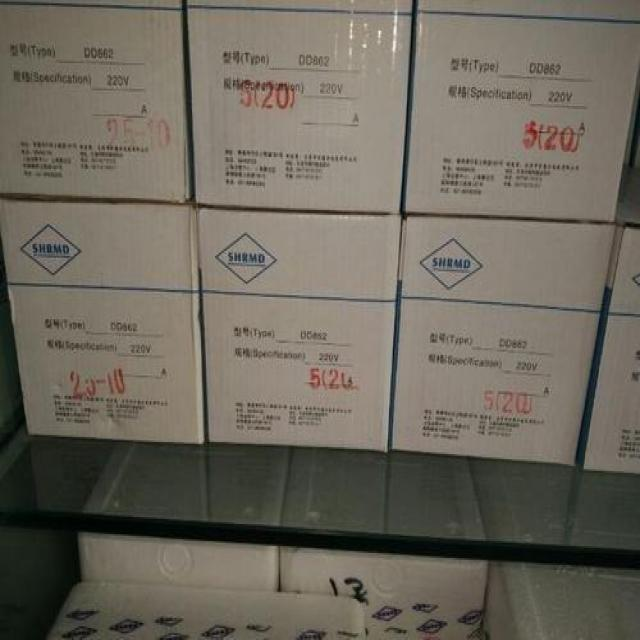box: (387, 211, 617, 469), (193, 199, 407, 456), (398, 0, 640, 226), (0, 198, 207, 446), (184, 0, 420, 209), (0, 0, 197, 209)
